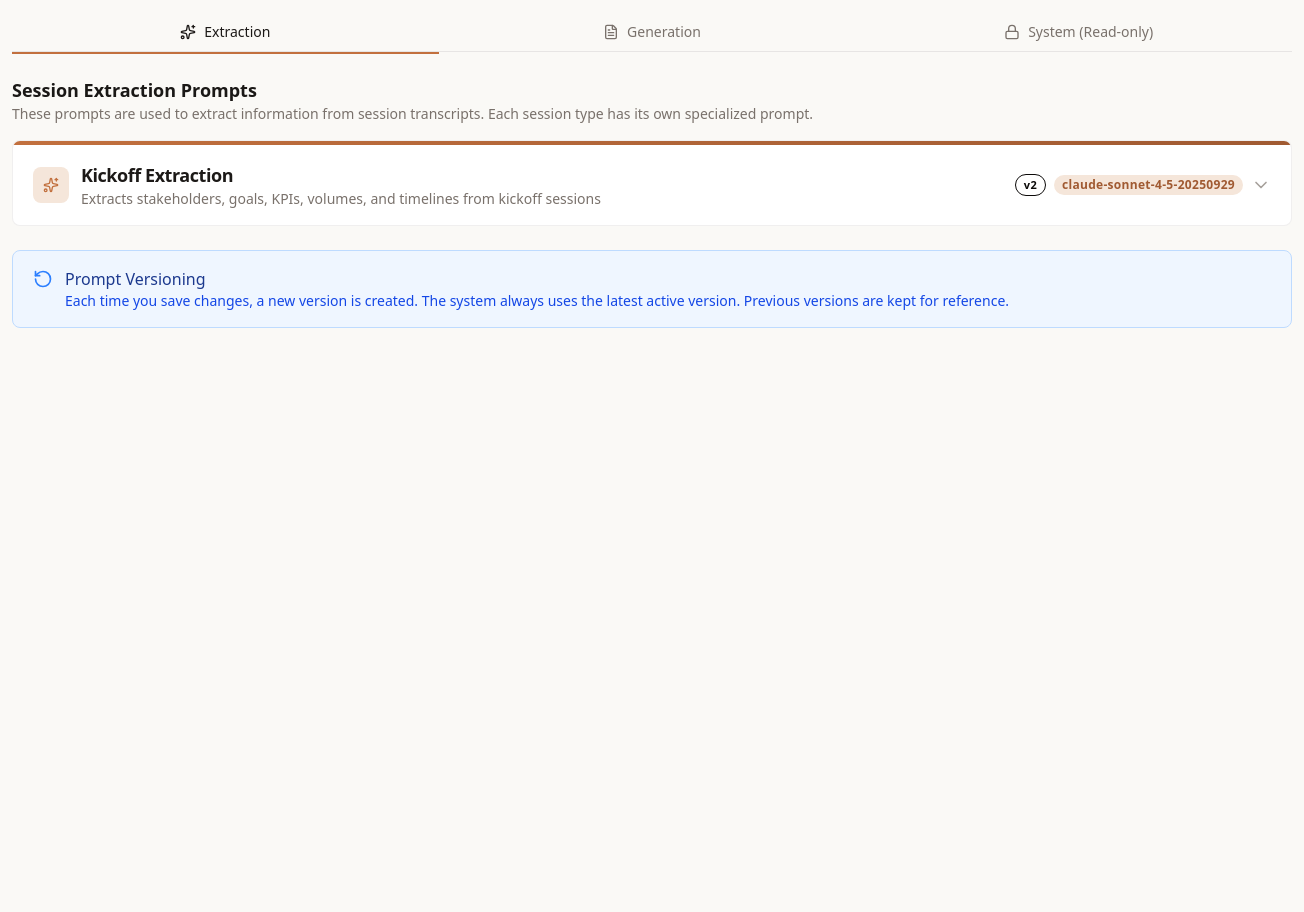
Scenario: PromptManager › enters edit mode when Edit Prompt is clicked
Note: Expand the collapsible
Click the heading "Kickoff Extraction" at (157, 175), box x1=81 y1=163 x2=233 y2=187
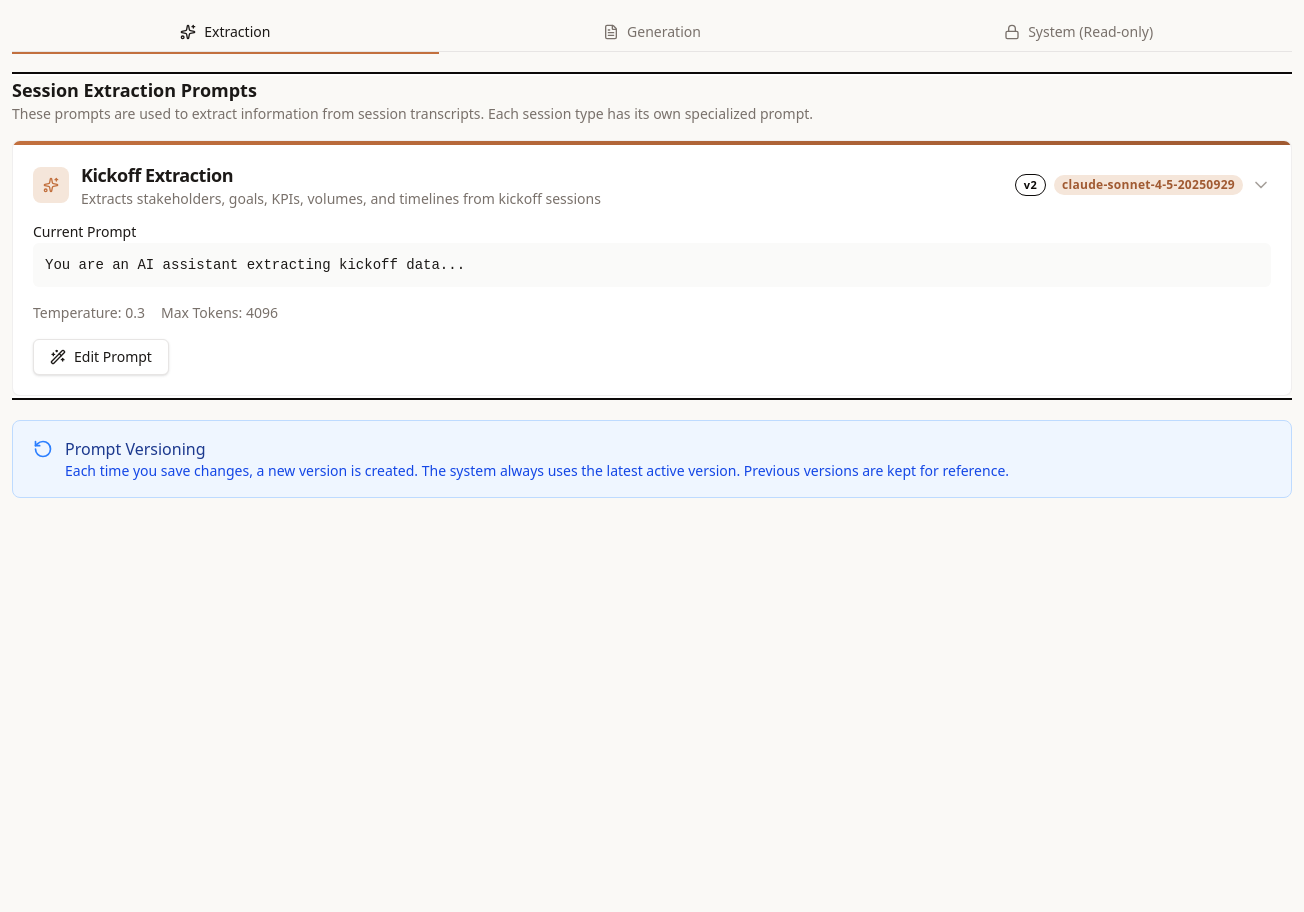
Now the button "Edit Prompt" is shown
Click the button "Edit Prompt" at (101, 357), box x1=33 y1=339 x2=169 y2=375
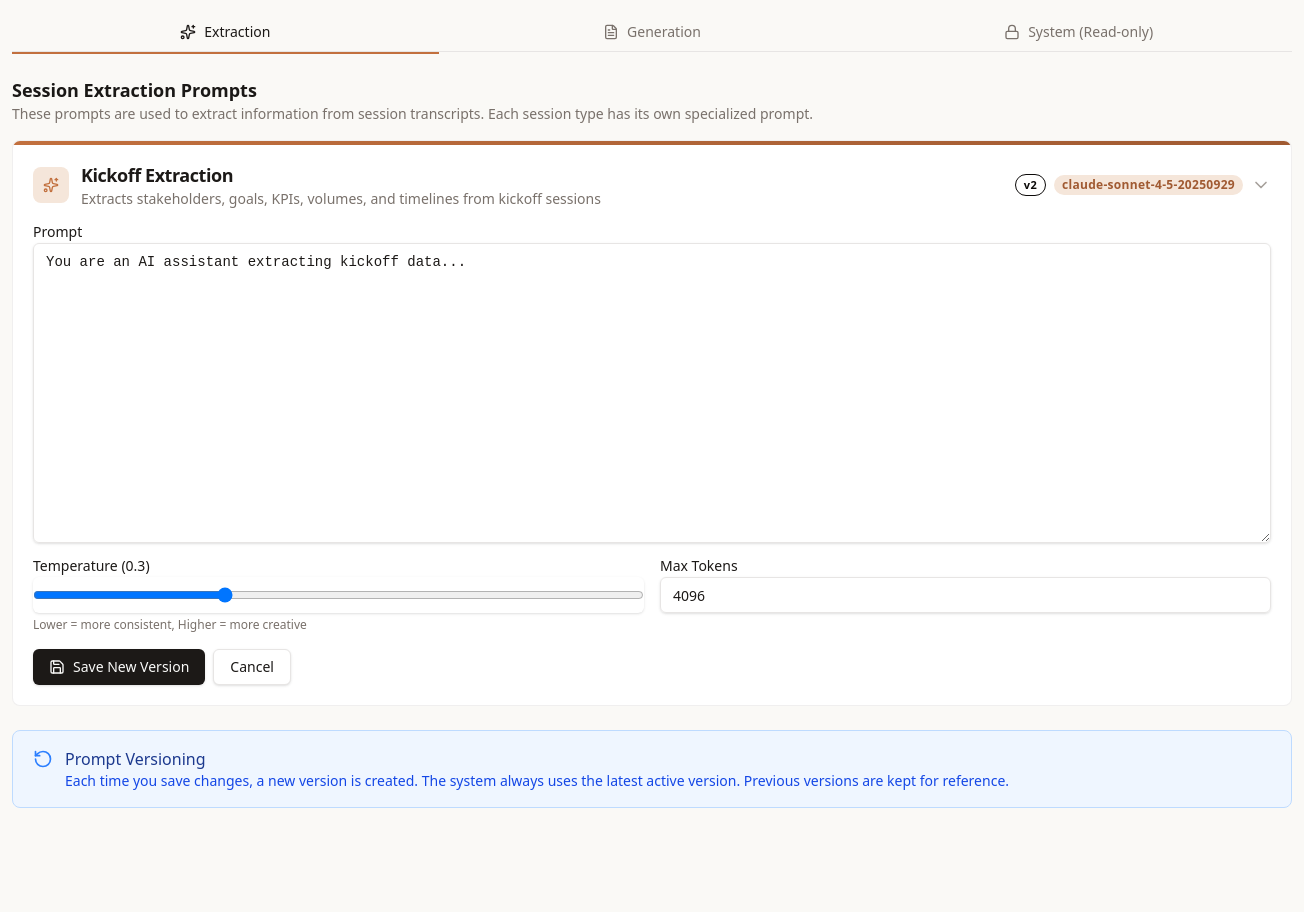
Now the text box labelled "Prompt" is shown, box x1=33 y1=243 x2=1271 y2=543
Now the button "Save New Version" is shown, box x1=33 y1=649 x2=205 y2=685
Now the button "Cancel" is shown, box x1=213 y1=649 x2=291 y2=685
